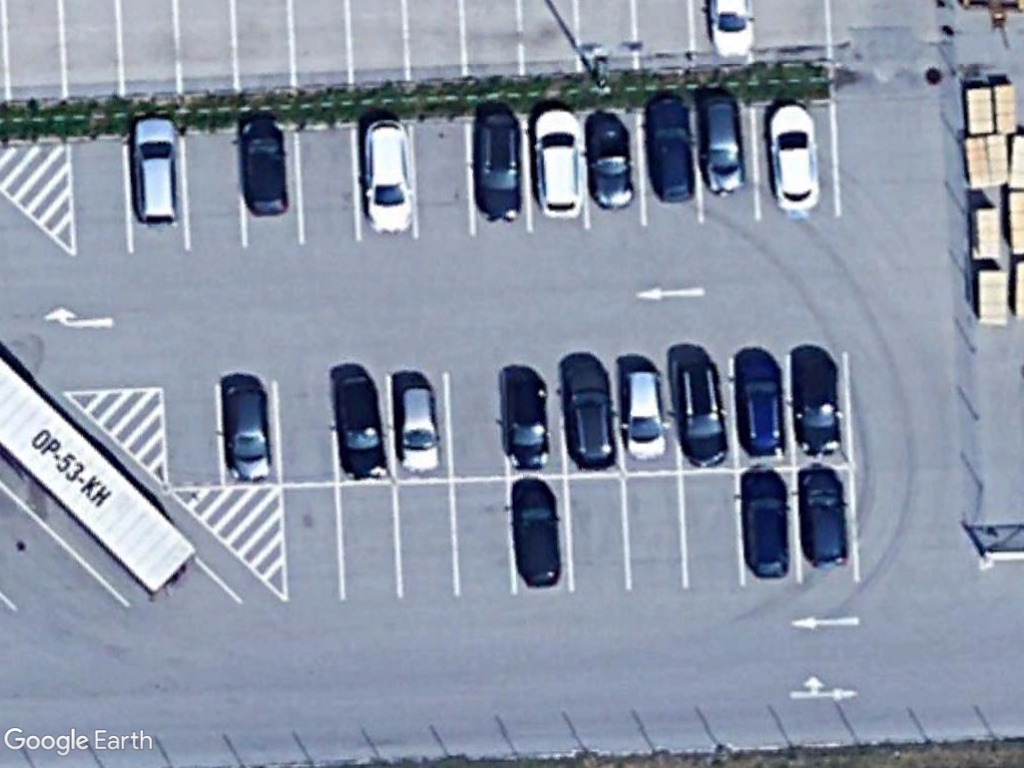car: (556, 352, 620, 471), (759, 100, 823, 214), (358, 117, 419, 236), (730, 341, 789, 461), (788, 348, 847, 464), (530, 106, 589, 221), (469, 110, 527, 223), (333, 372, 391, 483), (233, 115, 294, 220), (642, 95, 700, 204), (509, 476, 563, 593), (738, 468, 793, 580), (795, 461, 849, 571), (132, 116, 184, 230), (696, 91, 750, 198), (223, 383, 279, 485), (674, 358, 726, 467), (500, 371, 555, 469), (585, 112, 637, 215), (621, 364, 668, 464), (397, 381, 440, 475)
